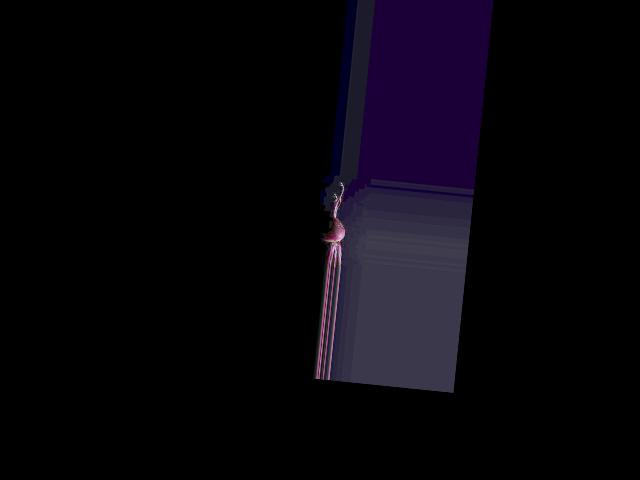beet: (319, 180, 351, 268)
